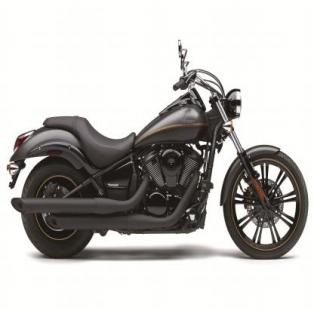Motocicleta: (7, 35, 312, 267)
